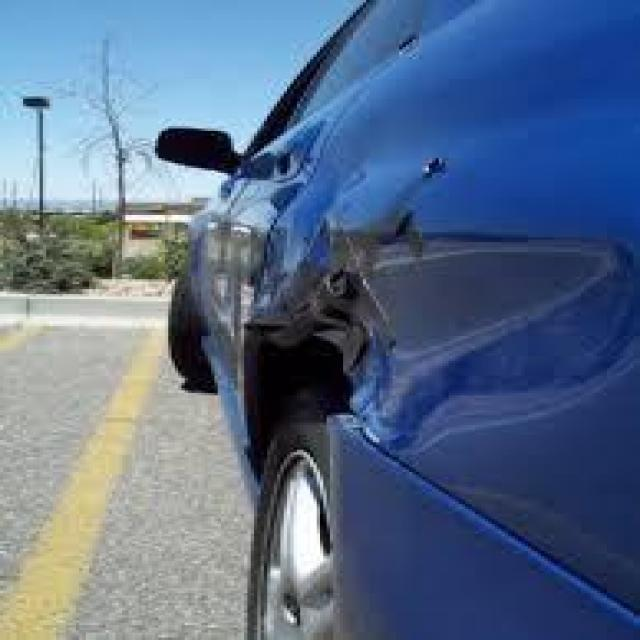damaged: (238, 225, 636, 467)
